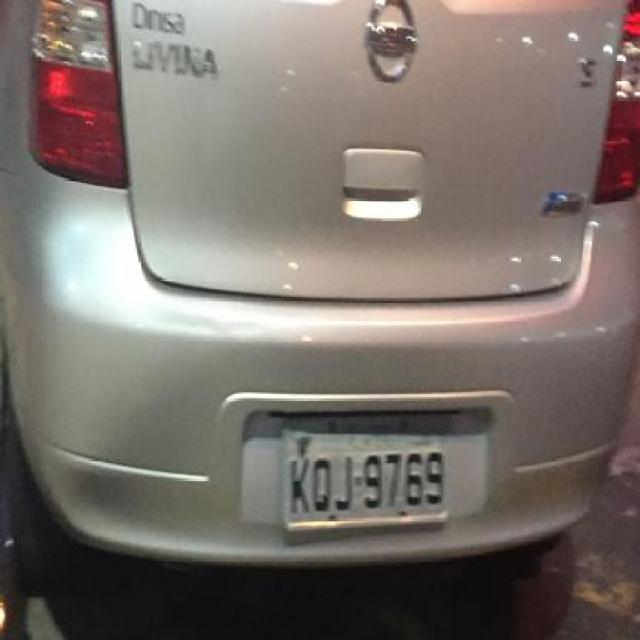old_plate: (275, 409, 452, 536)
